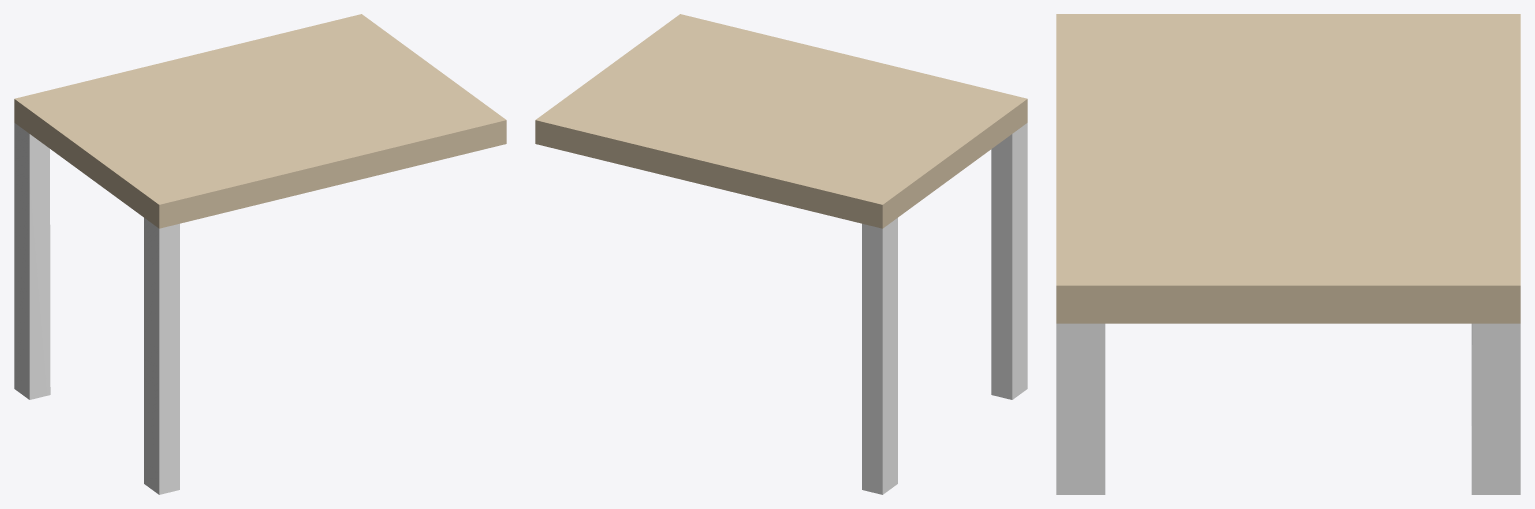
Rendered from Table_Type_1.fbx.
3 views of the same model, side by side, from view 1: azimuth 30°, elevation 25°; view 2: azimuth 150°, elevation 25°; view 3: azimuth 270°, elevation 25° (orthographic). The views are drawn at different scales.
Parts seen in each view (by area): view 1: Table_Type_1; view 2: Table_Type_1; view 3: Table_Type_1.
Boxes of the visible parts, bbox=[...] form: Table_Type_1: bbox=[14, 14, 506, 494]; Table_Type_1: bbox=[535, 14, 1027, 494]; Table_Type_1: bbox=[1056, 14, 1520, 494].
Size of the model in its own units: 91.5 by 73 by 66.13.
